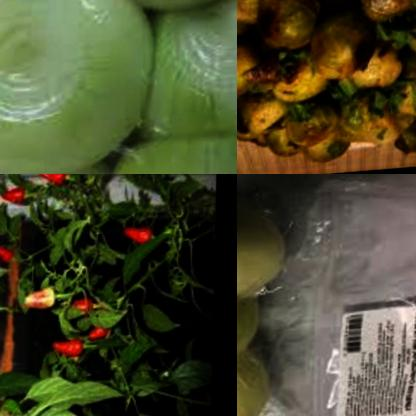brus capusta: (237, 0, 416, 174)
hot pepper: (19, 279, 63, 318), (115, 225, 158, 253), (0, 178, 30, 210), (48, 337, 84, 362), (66, 297, 93, 321), (79, 324, 107, 347), (31, 174, 70, 188), (0, 238, 17, 269)
onion: (0, 0, 237, 174), (237, 202, 295, 416)
